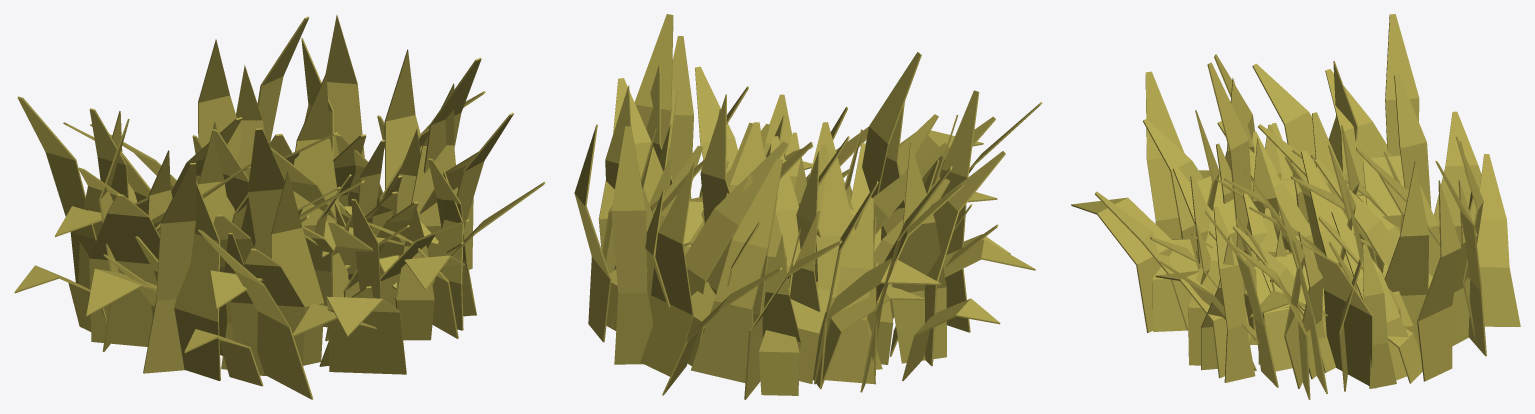
The model's file is GrassSmallCircle (1).fbx.
3 views of the same model, side by side, from view 1: azimuth 30°, elevation 25°; view 2: azimuth 150°, elevation 25°; view 3: azimuth 270°, elevation 25° (orthographic). The views are drawn at different scales.
Parts seen in each view (by area): view 1: Grass4.003; view 2: Grass4.003; view 3: Grass4.003.
Boxes of the visible parts, box(x1,y1,x2,y2) form: Grass4.003: box(14, 14, 545, 399); Grass4.003: box(574, 14, 1042, 399); Grass4.003: box(1071, 14, 1520, 399).
Size of the model in its own units: 3.03 by 1.68 by 3.05.
